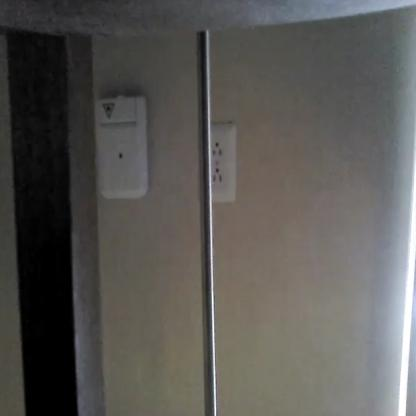OUTLET: (211, 122, 236, 203)
